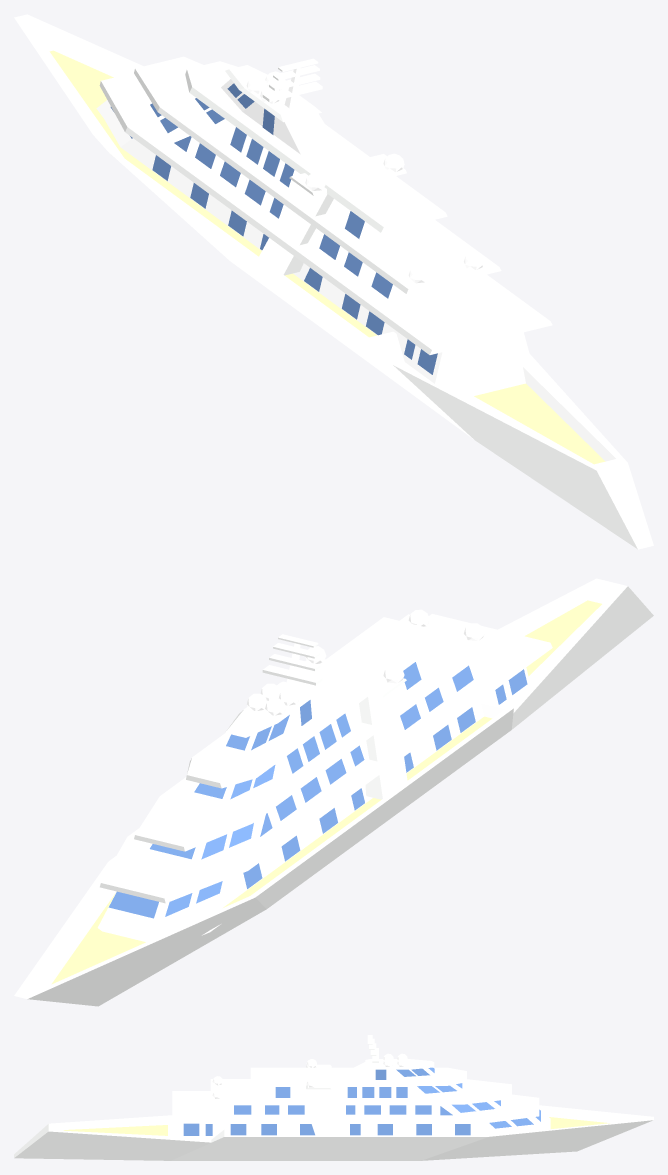
Rendered from transport_water.003.glb.
3 views of the same model, one above another, from view 1: azimuth 30°, elevation 25°; view 2: azimuth 150°, elevation 25°; view 3: azimuth 270°, elevation 25° (orthographic). The views are drawn at different scales.
Parts seen in each view (by area): view 1: transport_water.003(Clone); view 2: transport_water.003(Clone); view 3: transport_water.003(Clone).
Part boxes in pixels (x1=…): transport_water.003(Clone): x1=14, y1=14, x2=653, y2=549; transport_water.003(Clone): x1=14, y1=578, x2=653, y2=1006; transport_water.003(Clone): x1=14, y1=1035, x2=653, y2=1160.
Size of the model in its own units: 4.12 by 6.11 by 30.33.
1 material, 1 textured.
